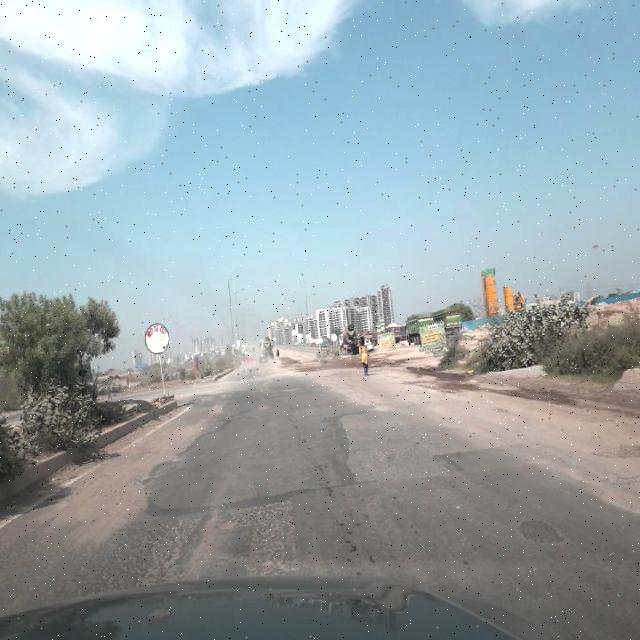D20: (78, 489, 307, 569)
